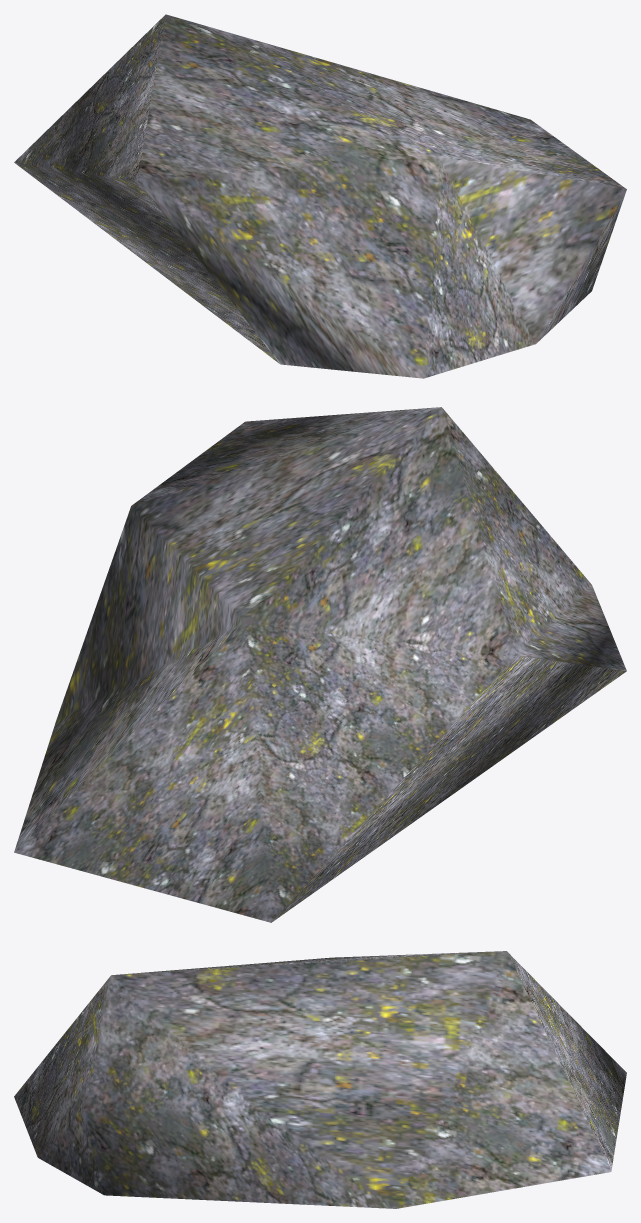
Rendered from rock_weatheredmossy_large_a2_l2.fbx.
The picture shows the model from 3 angles, top to bottom: view 1: azimuth 30°, elevation 25°; view 2: azimuth 150°, elevation 25°; view 3: azimuth 270°, elevation 25°; orthographic projection. The views are drawn at different scales.
Parts seen in each view (by area): view 1: mesh_node; view 2: mesh_node; view 3: mesh_node.
Boxes of the visible parts, x1,y1,x2,y2 form: mesh_node: [14, 14, 626, 378]; mesh_node: [14, 407, 626, 922]; mesh_node: [14, 951, 626, 1208].
Bounding box in the file's own units: 0.6928 × 0.3348 × 1.13.
1 material, 1 textured.
